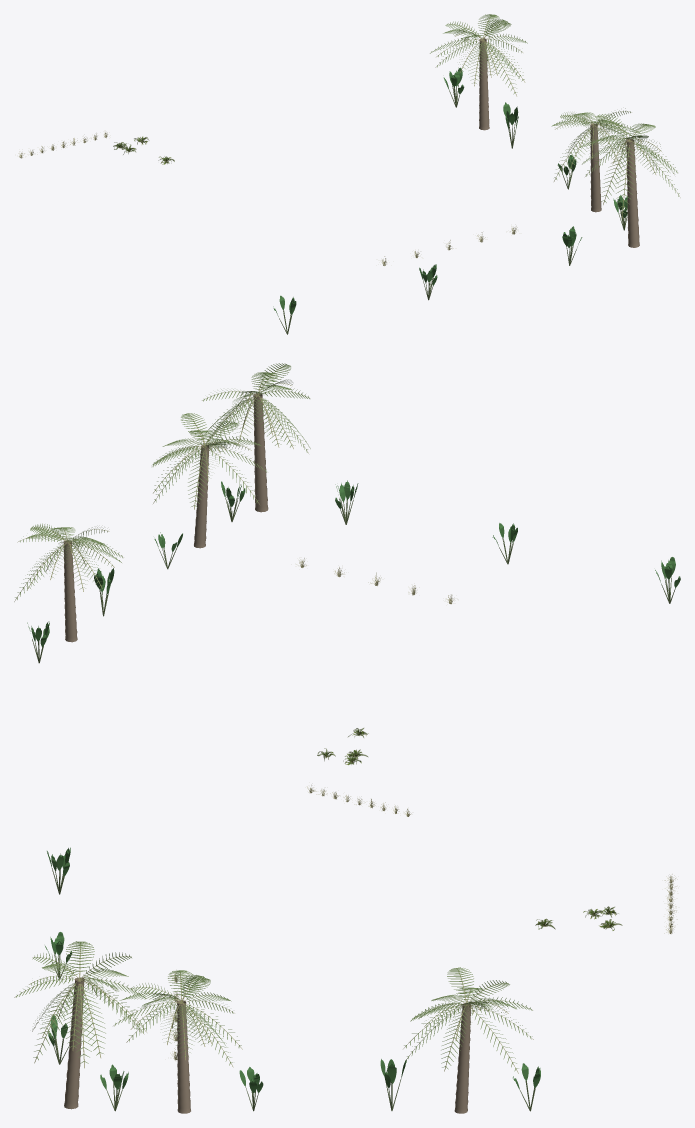
File: plants.glb
3 renders of one model, top to bottom at view 1: azimuth 30°, elevation 25°; view 2: azimuth 150°, elevation 25°; view 3: azimuth 270°, elevation 25°, orthographic. The views are drawn at different scales.
Parts seen in each view (by area): view 1: T_palm_corner, T_palm_e5, T_palm_e1; view 2: T_palm_corner, T_palm_e1, T_palm_e5; view 3: T_palm_corner, T_palm_e1, T_palm_e5, T_strel_e4, T_strel_e0, T_strel_r1, T_strel_e2, T_strel_r7.
Part boxes in pixels (bbox=[...]): T_palm_corner: bbox=[579, 114, 680, 247]; T_palm_e5: bbox=[430, 14, 527, 130]; T_palm_e1: bbox=[551, 108, 640, 212]; T_palm_corner: bbox=[202, 363, 310, 512]; T_palm_e1: bbox=[152, 413, 266, 548]; T_palm_e5: bbox=[14, 523, 123, 642]; T_palm_corner: bbox=[14, 941, 146, 1109]; T_palm_e1: bbox=[113, 970, 242, 1113]; T_palm_e5: bbox=[403, 967, 533, 1113]; T_strel_e4: bbox=[380, 1058, 407, 1110]; T_strel_e0: bbox=[100, 1064, 128, 1111]; T_strel_r1: bbox=[47, 847, 70, 894]; T_strel_e2: bbox=[239, 1067, 263, 1111]; T_strel_r7: bbox=[48, 1015, 69, 1064].
Size of what is drawn, in the model's own units: 29.03 by 7.78 by 31.81.
Materials: 7 (1 with a texture image).
